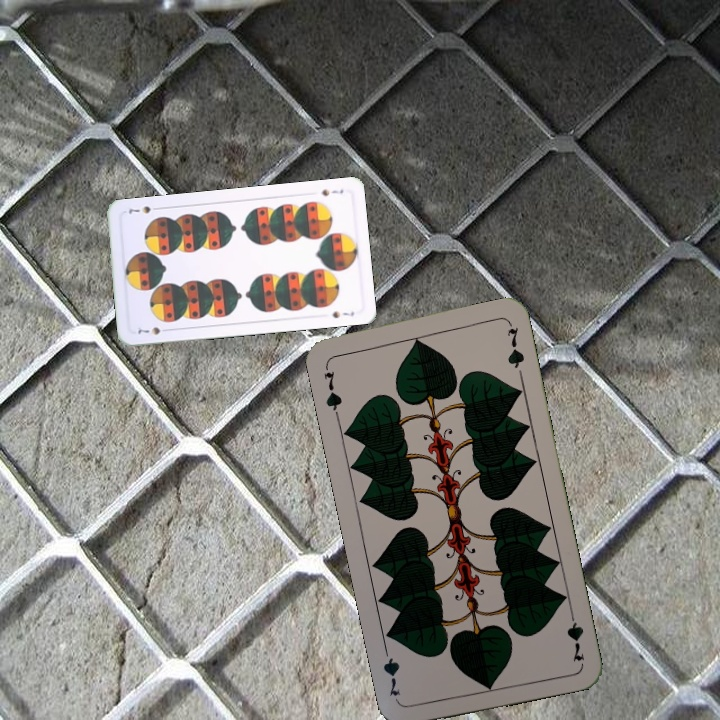G7: (562, 605, 587, 664), (319, 360, 344, 419)
S7: (134, 323, 172, 337), (317, 185, 346, 199)
